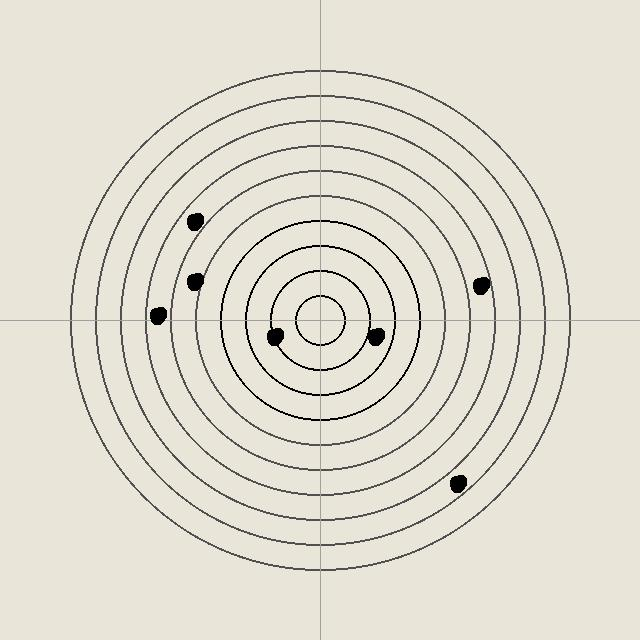random_scatter: (447, 473, 467, 493), (365, 326, 385, 346), (264, 326, 284, 346), (184, 271, 204, 291), (470, 275, 490, 295), (147, 305, 167, 325), (184, 211, 204, 231)
